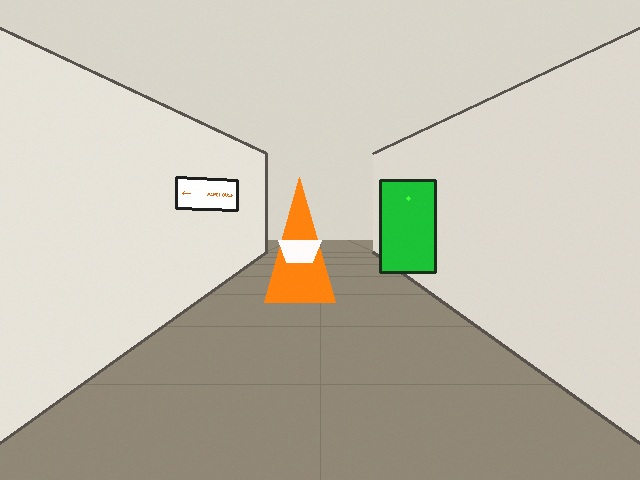charging_station: (380, 180, 435, 272)
directional_sign: (176, 177, 237, 210)
obstacle: (264, 177, 335, 302)
